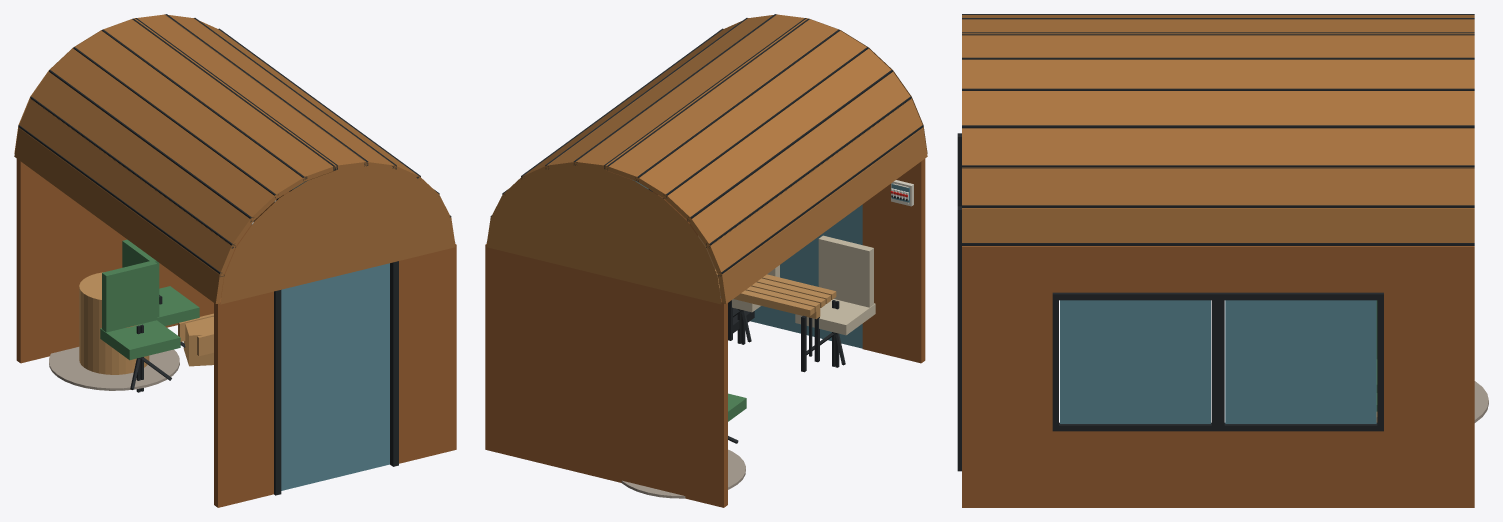
The model's file is A3_interior_camping_blockout.glb.
3 renders of one model, left to right at view 1: azimuth 30°, elevation 25°; view 2: azimuth 150°, elevation 25°; view 3: azimuth 270°, elevation 25°, orthographic. The views are drawn at different scales.
Visible parts, largest first — view 1: ARCH_A3_DOOR_GLASS, ARCH_A3_ROOF_SOUTH_END_CAP, ARCH_A3_NORTH_WALL, ARCH_A3_SOUTH_WALL_L, ARCH_A3_SOUTH_WALL_R, ARCH_A3_ROOF_PANEL_04, ARCH_A3_ROOF_PANEL_03, ARCH_A3_ROOF_PANEL_05, ARCH_A3_ROOF_PANEL_02, ARCH_A3_ROOF_PANEL_06, ARCH_A3_ROOF_PANEL_01, ARCH_A3_ROOF_PANEL_07 (+19 smaller); view 2: ARCH_A3_NORTH_WALL, ARCH_A3_ROOF_NORTH_END_CAP, ARCH_A3_SOUTH_WALL_L, ARCH_A3_ROOF_PANEL_04, ARCH_A3_ROOF_PANEL_03, ARCH_A3_ROOF_PANEL_05, ARCH_A3_ROOF_PANEL_02, ARCH_A3_ROOF_PANEL_06, ARCH_A3_ROOF_PANEL_01, ARCH_A3_ROOF_PANEL_07, ARCH_A3_ROOF_PANEL_08, ARCH_A3_DOOR_GLASS (+12 smaller); view 3: ARCH_A3_EAST_WALL_BELOW_WINDOWS, ARCH_A3_EAST_WALL_ABOVE_WINDOWS, ARCH_A3_ROOF_PANEL_10, ARCH_A3_ROOF_PANEL_11, ARCH_A3_EAST_WINDOW_02, ARCH_A3_EAST_WINDOW_01, ARCH_A3_ROOF_PANEL_09, ARCH_A3_ROOF_PANEL_12, ARCH_A3_ROOF_PANEL_08, ARCH_A3_EAST_WALL_JAMB_1, ARCH_A3_EAST_WALL_JAMB_2, ARCH_A3_ROOF_PANEL_07 (+19 smaller).
Boxes of the visible parts, bbox=[...] form: ARCH_A3_DOOR_GLASS: bbox=[281, 263, 389, 490]; ARCH_A3_ROOF_SOUTH_END_CAP: bbox=[220, 166, 455, 304]; ARCH_A3_NORTH_WALL: bbox=[16, 159, 251, 363]; ARCH_A3_SOUTH_WALL_L: bbox=[214, 291, 273, 507]; ARCH_A3_SOUTH_WALL_R: bbox=[399, 248, 453, 463]; ARCH_A3_ROOF_PANEL_04: bbox=[50, 47, 277, 221]; ARCH_A3_ROOF_PANEL_03: bbox=[30, 72, 254, 247]; ARCH_A3_ROOF_PANEL_05: bbox=[75, 29, 306, 198]; ARCH_A3_ROOF_PANEL_02: bbox=[18, 98, 235, 275]; ARCH_A3_ROOF_PANEL_06: bbox=[104, 18, 336, 181]; ARCH_A3_ROOF_PANEL_01: bbox=[14, 128, 224, 303]; ARCH_A3_ROOF_PANEL_07: bbox=[134, 14, 367, 170]; ARCH_A3_NORTH_WALL: bbox=[488, 248, 727, 507]; ARCH_A3_ROOF_NORTH_END_CAP: bbox=[486, 166, 721, 304]; ARCH_A3_SOUTH_WALL_L: bbox=[862, 159, 925, 363]; ARCH_A3_ROOF_PANEL_04: bbox=[663, 47, 891, 219]; ARCH_A3_ROOF_PANEL_03: bbox=[687, 72, 911, 245]; ARCH_A3_ROOF_PANEL_05: bbox=[635, 29, 866, 198]; ARCH_A3_ROOF_PANEL_02: bbox=[706, 98, 923, 275]; ARCH_A3_ROOF_PANEL_06: bbox=[605, 18, 837, 181]; ARCH_A3_ROOF_PANEL_01: bbox=[718, 128, 927, 303]; ARCH_A3_ROOF_PANEL_07: bbox=[574, 14, 807, 170]; ARCH_A3_ROOF_PANEL_08: bbox=[546, 14, 777, 169]; ARCH_A3_DOOR_GLASS: bbox=[750, 204, 862, 348]; ARCH_A3_EAST_WALL_BELOW_WINDOWS: bbox=[962, 429, 1474, 507]; ARCH_A3_EAST_WALL_ABOVE_WINDOWS: bbox=[962, 246, 1474, 292]; ARCH_A3_ROOF_PANEL_10: bbox=[962, 128, 1474, 167]; ARCH_A3_ROOF_PANEL_11: bbox=[962, 168, 1474, 208]; ARCH_A3_EAST_WINDOW_02: bbox=[1225, 300, 1376, 423]; ARCH_A3_EAST_WINDOW_01: bbox=[1060, 300, 1210, 423]; ARCH_A3_ROOF_PANEL_09: bbox=[962, 88, 1474, 125]; ARCH_A3_ROOF_PANEL_12: bbox=[962, 208, 1474, 246]; ARCH_A3_ROOF_PANEL_08: bbox=[962, 57, 1474, 88]; ARCH_A3_EAST_WALL_JAMB_1: bbox=[962, 292, 1052, 429]; ARCH_A3_EAST_WALL_JAMB_2: bbox=[1384, 292, 1474, 429]; ARCH_A3_ROOF_PANEL_07: bbox=[962, 33, 1474, 56].
Bounding box in the file's own units: 2.49 × 3.15 × 3.7.
